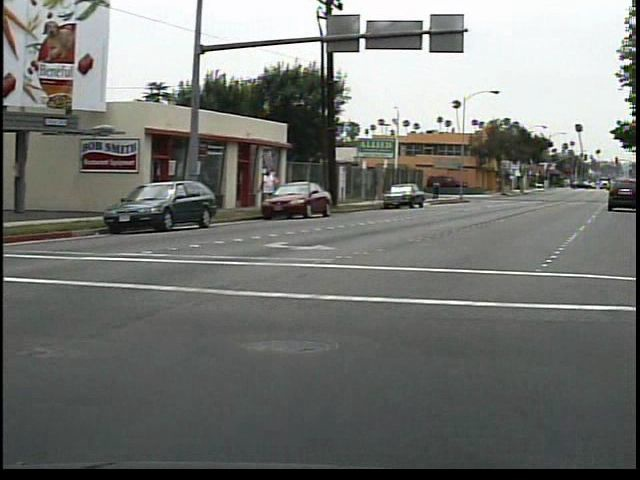person: (263, 160, 288, 215), (436, 178, 449, 203)
